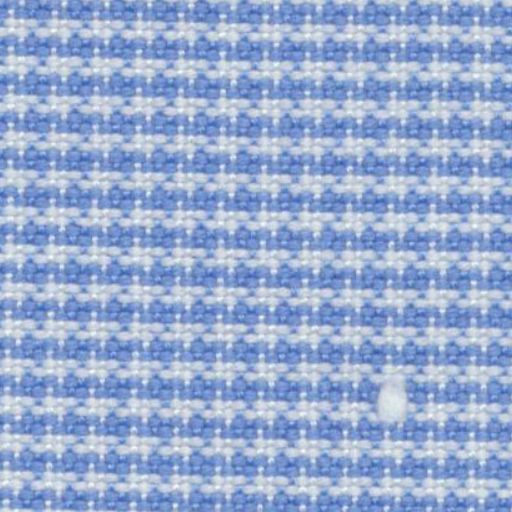MianQiu: (350, 358, 430, 450)
